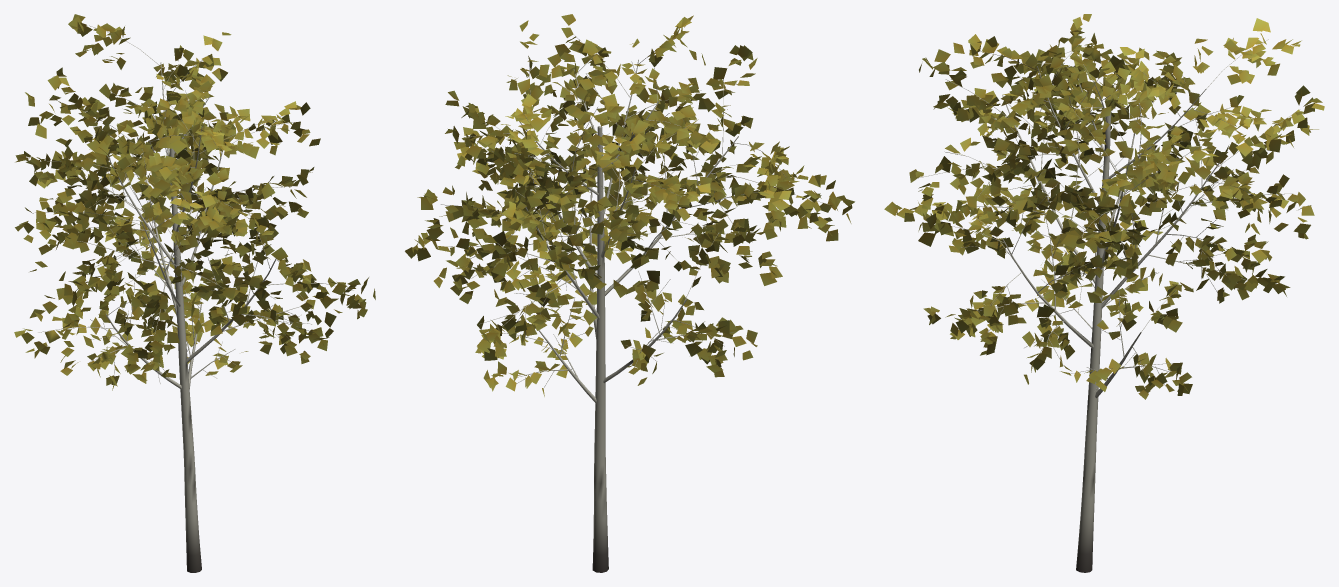
Rendered from birch-c.lod0.glb.
3 views of the same model, side by side, from view 1: azimuth 30°, elevation 25°; view 2: azimuth 150°, elevation 25°; view 3: azimuth 270°, elevation 25° (orthographic). The views are drawn at different scales.
Bounding box in the file's own units: 8.61 × 13.05 × 9.48.
